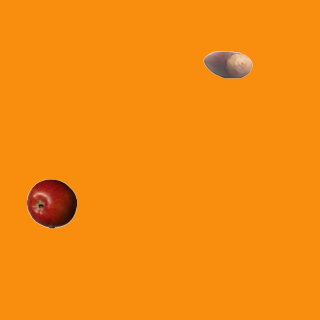Apple Braeburn: (26, 178, 76, 228)
Hazelnut: (202, 39, 252, 89)
